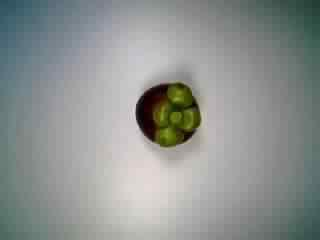mangosteen: (123, 74, 207, 151)
